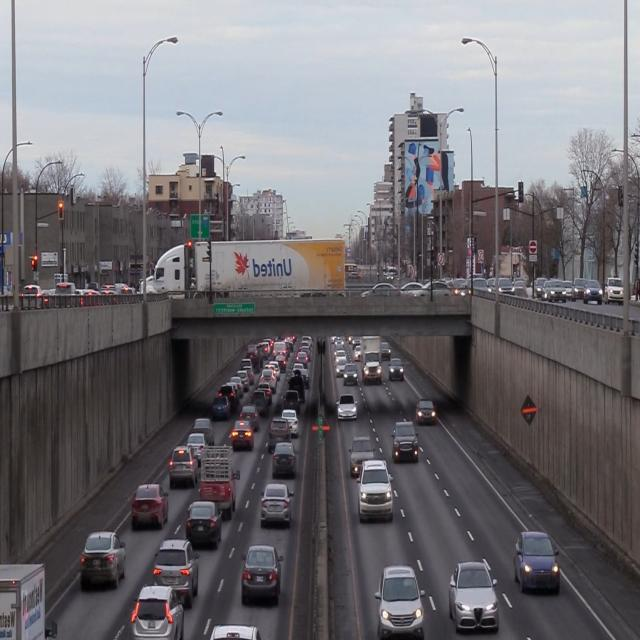Vehicle: (448, 558, 496, 634), (376, 567, 423, 639), (150, 539, 200, 605), (130, 590, 190, 640), (513, 528, 557, 592), (80, 530, 126, 590), (239, 544, 283, 606), (198, 446, 235, 516), (357, 458, 395, 521), (129, 483, 171, 532), (256, 483, 295, 531), (185, 501, 223, 548), (169, 446, 197, 492), (359, 338, 383, 387), (346, 436, 373, 475), (392, 419, 416, 461), (272, 442, 296, 479), (231, 419, 254, 453), (268, 417, 289, 451), (335, 394, 358, 423), (414, 397, 436, 425), (387, 356, 405, 383)
